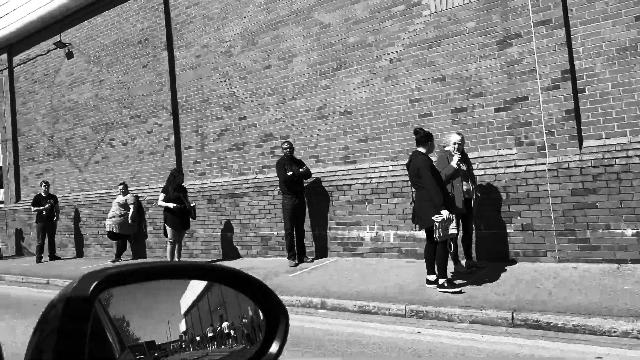berdiri: (404, 124, 482, 294), (268, 127, 324, 268)
